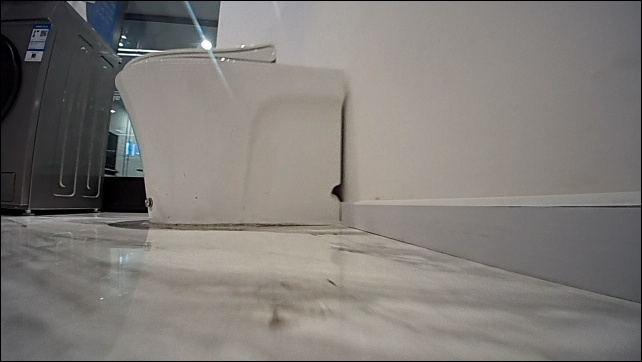toilet: (106, 41, 347, 227)
